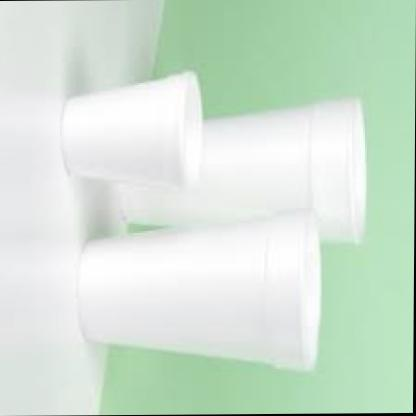Plastic: (51, 51, 386, 390)
